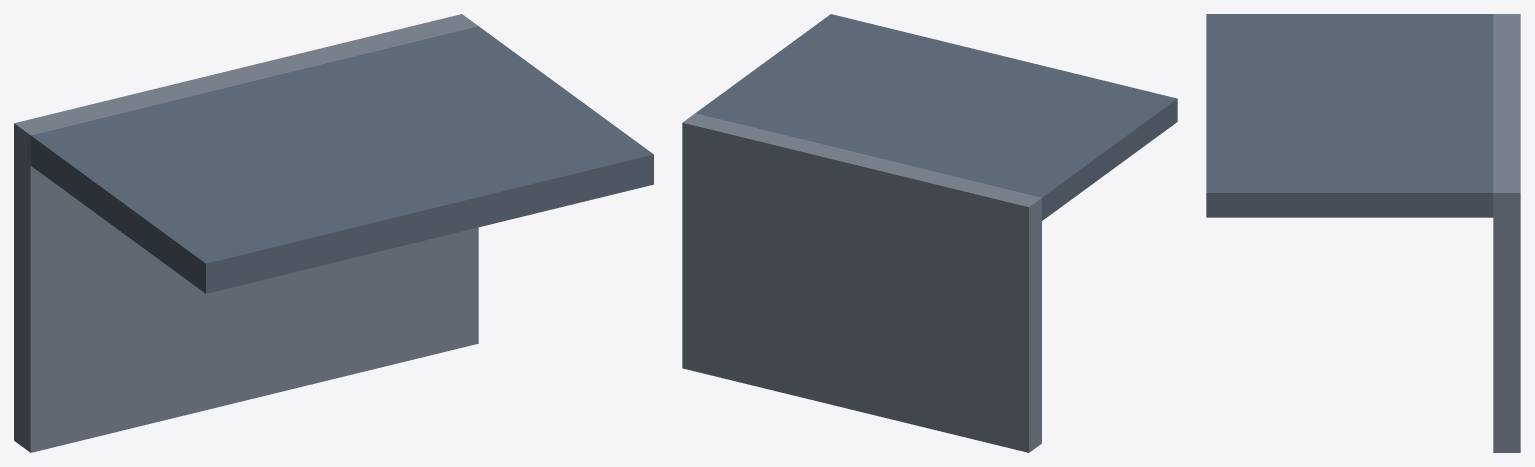
The model's file is laptop.glb.
3 views of the same model, side by side, from view 1: azimuth 30°, elevation 25°; view 2: azimuth 150°, elevation 25°; view 3: azimuth 270°, elevation 25° (orthographic). The views are drawn at different scales.
Visible parts, largest first — view 1: screen, base; view 2: base, screen; view 3: screen, base.
Part boxes in pixels (<box>): screen: <box>30,26,653,293</box>; base: <box>14,14,478,452</box>; base: <box>682,113,1041,452</box>; screen: <box>695,14,1177,220</box>; screen: <box>1206,14,1493,217</box>; base: <box>1493,14,1520,452</box>.
Size of the model in its own units: 0.62 by 0.42 by 0.46.
